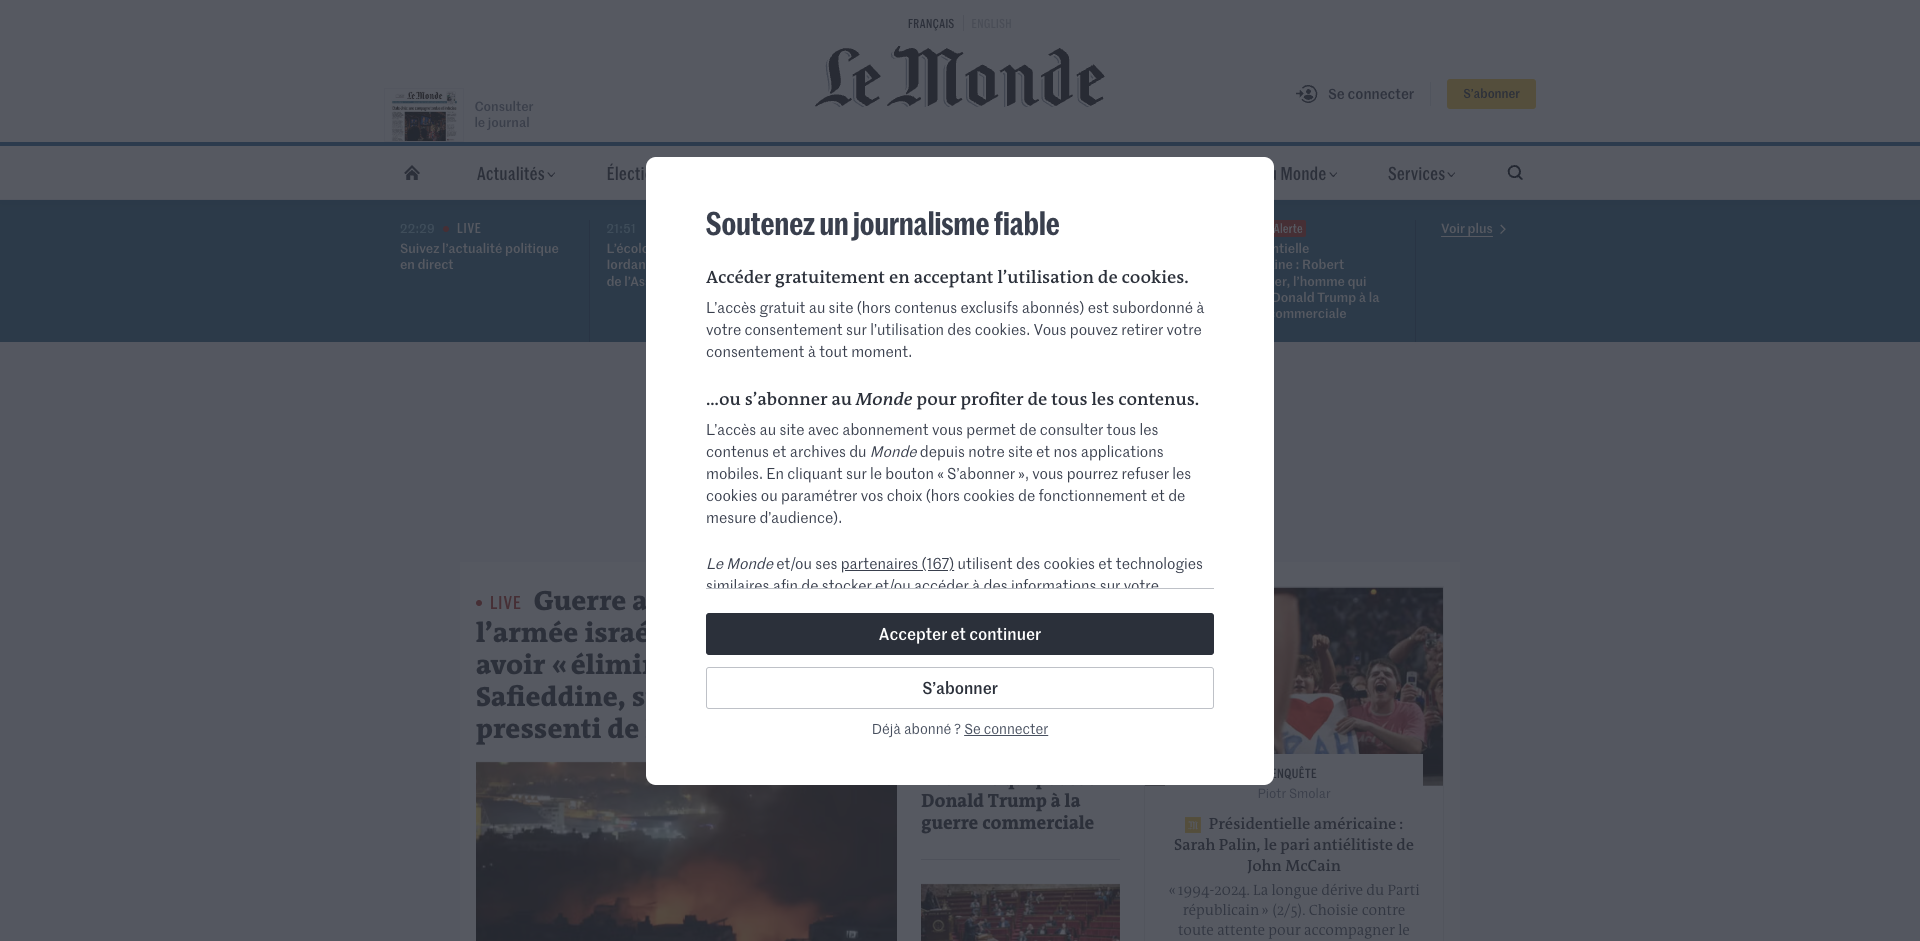button: (707, 613, 1213, 654), (707, 667, 1213, 708), (707, 714, 1213, 755), (1190, 147, 1351, 198), (590, 147, 715, 198), (460, 147, 569, 198), (736, 147, 842, 198), (1373, 147, 1471, 198), (1079, 147, 1169, 198), (970, 147, 1058, 198), (863, 147, 949, 198), (707, 690, 899, 709), (1447, 78, 1536, 109), (1507, 162, 1523, 183)
link: (476, 586, 898, 941), (1145, 587, 1442, 941), (921, 586, 1120, 834), (590, 221, 797, 342), (1003, 221, 1210, 342), (384, 221, 590, 342), (797, 221, 1003, 342), (1210, 221, 1416, 342), (816, 47, 1104, 107), (921, 883, 1120, 941), (1296, 74, 1447, 114), (384, 88, 464, 142), (1441, 221, 1511, 281), (384, 145, 440, 201), (841, 554, 954, 572), (964, 719, 1048, 738), (909, 17, 955, 29), (971, 17, 1011, 29)
